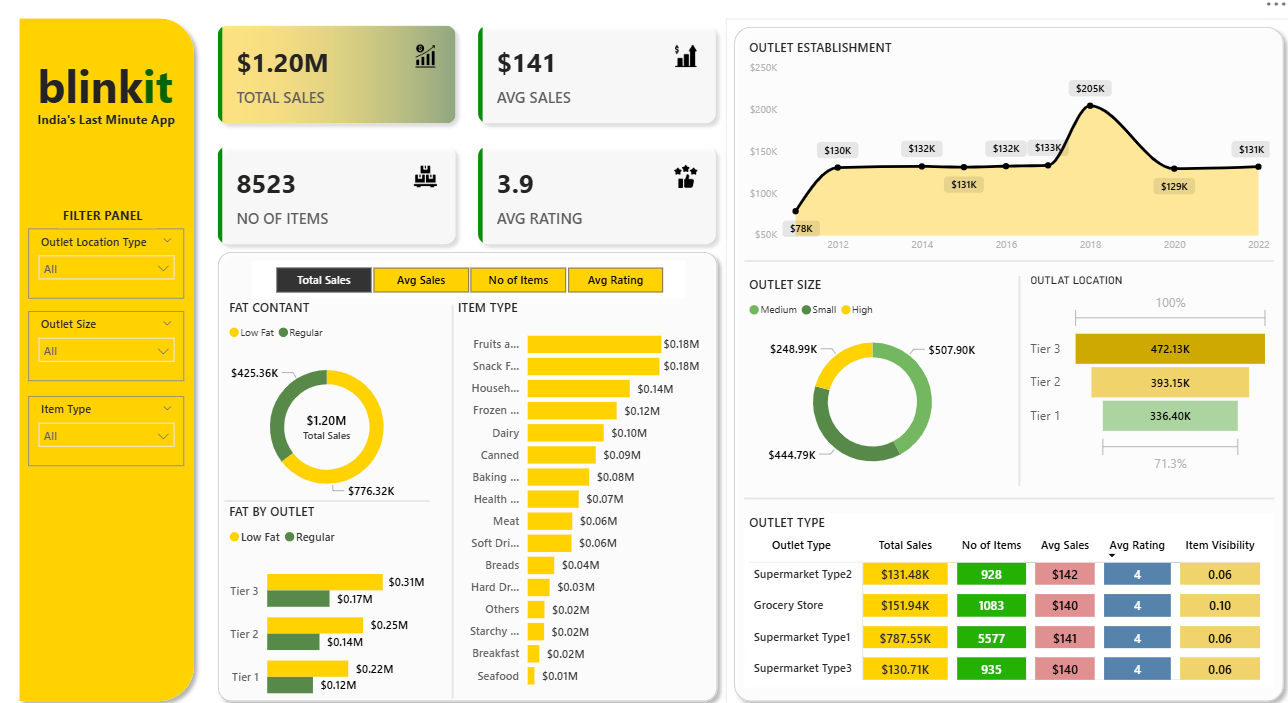

What the dashboard file says about the page in this screenshot:
{"tool":"powerbi","page":{"name":"Page 1","canvas":[1400,800],"ordinal":0},"visuals":[{"type":"shape","box":[25.5,25.5,205.6,750.4],"z":0},{"type":"textbox","box":[44.2,68.4,164.9,76.4],"z":1000},{"type":"textbox","box":[44.2,128.7,167.6,30.8],"z":2000},{"type":"cardVisual","fields":{"Data":["BlinkIT Grocery Data.Total Sales","BlinkIT Grocery Data.Avg Sales","BlinkIT Grocery Data.No of Items","BlinkIT Grocery Data.Avg Rating"]},"box":[230.6,25.5,569.7,269.4],"z":3000},{"type":"shape","box":[238.6,276.1,553.6,500],"z":4000},{"type":"donutChart","title":"FAT CONTANT","fields":{"Y":["BlinkIT Grocery Data.Total Sales"],"Category":["BlinkIT Grocery Data.Item Fat Content"]},"box":[254.7,335.1,219.8,230.6],"z":5000},{"type":"slicer","fields":{"Values":["Metrics .Metrics "]},"box":[284.2,294.9,465.1,40.2],"z":6000},{"type":"cardVisual","fields":{"Data":["BlinkIT Grocery Data.Total Sales"]},"box":[317.7,439.7,93.8,57.6],"z":7000},{"type":"clusteredBarChart","title":"FAT BY OUTLET","fields":{"Y":["BlinkIT Grocery Data.Total Sales"],"Category":["BlinkIT Grocery Data.Outlet Location Type"],"Series":["BlinkIT Grocery Data.Item Fat Content"]},"box":[254.7,553.6,219.8,230.6],"z":8000},{"type":"shape","box":[254.7,538.9,219.8,26.8],"z":9000},{"type":"shape","box":[493.3,341.8,12.1,422.3],"z":10000},{"type":"barChart","title":"ITEM TYPE","fields":{"Y":["BlinkIT Grocery Data.Total Sales"],"Category":["BlinkIT Grocery Data.Item Type"]},"box":[500,335.1,269.4,429],"z":11000},{"type":"shape","box":[792.2,34.9,607.2,741.3],"z":12000},{"type":"lineChart","title":"OUTLET ESTABLISHMENT","fields":{"Y":["BlinkIT Grocery Data.Total Sales"],"Category":["BlinkIT Grocery Data.Outlet Establishment Year"]},"box":[812.3,56.3,568.4,238.6],"z":13000},{"type":"shape","box":[812.3,281.5,568.4,26.8],"z":14000},{"type":"donutChart","title":"OUTLET SIZE","fields":{"Y":["BlinkIT Grocery Data.Total Sales"],"Category":["BlinkIT Grocery Data.Outlet Size"]},"box":[812.3,311,274.8,225.2],"z":15000},{"type":"shape","box":[1100.5,311,13.4,225.2],"z":16000},{"type":"funnel","title":"OUTLAT LOCATION","fields":{"Y":["Sum(BlinkIT Grocery Data.Sales)"],"Category":["BlinkIT Grocery Data.Outlet Location Type"]},"box":[1113.9,308.3,266.8,218.5],"z":17000},{"type":"shape","box":[812.3,536.2,568.4,26.8],"z":18000},{"type":"pivotTable","title":"OUTLET TYPE","fields":{"Rows":["BlinkIT Grocery Data.Outlet Type"],"Values":["BlinkIT Grocery Data.Total Sales","BlinkIT Grocery Data.No of Items","BlinkIT Grocery Data.Avg Sales","BlinkIT Grocery Data.Avg Rating","Avg(BlinkIT Grocery Data.Item Visibility)"]},"box":[812.3,565.7,568.4,186.3],"z":19000},{"type":"slicer","fields":{"Values":["BlinkIT Grocery Data.Outlet Location Type"]},"box":[44.2,260.1,167.6,75.1],"z":20000},{"type":"slicer","fields":{"Values":["BlinkIT Grocery Data.Outlet Size"]},"box":[44.2,348.5,167.6,75.1],"z":21000},{"type":"slicer","fields":{"Values":["BlinkIT Grocery Data.Item Type"]},"box":[44.2,439.7,167.6,75.1],"z":22000},{"type":"textbox","box":[76.4,231.9,105.9,28.2],"z":23000}]}

Visuals, with their boxes on the page's 1400x800 design canvas (x1, y1, x2, y2). These are canvas units, not pixel positions in the 1288x703 screenshot, which may show the page scaled, cropped or inside an application window:
shape: box=[26, 26, 231, 776]
textbox: box=[44, 68, 209, 145]
textbox: box=[44, 129, 212, 160]
cardVisual - BlinkIT Grocery Data.Total Sales x BlinkIT Grocery Data.Avg Sales: box=[231, 26, 800, 295]
shape: box=[239, 276, 792, 776]
"FAT CONTANT" donutChart: box=[255, 335, 474, 566]
slicer - Metrics .Metrics : box=[284, 295, 749, 335]
cardVisual - BlinkIT Grocery Data.Total Sales: box=[318, 440, 412, 497]
"FAT BY OUTLET" clusteredBarChart: box=[255, 554, 474, 784]
shape: box=[255, 539, 474, 566]
shape: box=[493, 342, 505, 764]
"ITEM TYPE" barChart: box=[500, 335, 769, 764]
shape: box=[792, 35, 1399, 776]
"OUTLET ESTABLISHMENT" lineChart: box=[812, 56, 1381, 295]
shape: box=[812, 282, 1381, 308]
"OUTLET SIZE" donutChart: box=[812, 311, 1087, 536]
shape: box=[1100, 311, 1114, 536]
"OUTLAT LOCATION" funnel: box=[1114, 308, 1381, 527]
shape: box=[812, 536, 1381, 563]
"OUTLET TYPE" pivotTable: box=[812, 566, 1381, 752]
slicer - BlinkIT Grocery Data.Outlet Location Type: box=[44, 260, 212, 335]
slicer - BlinkIT Grocery Data.Outlet Size: box=[44, 348, 212, 424]
slicer - BlinkIT Grocery Data.Item Type: box=[44, 440, 212, 515]
textbox: box=[76, 232, 182, 260]
